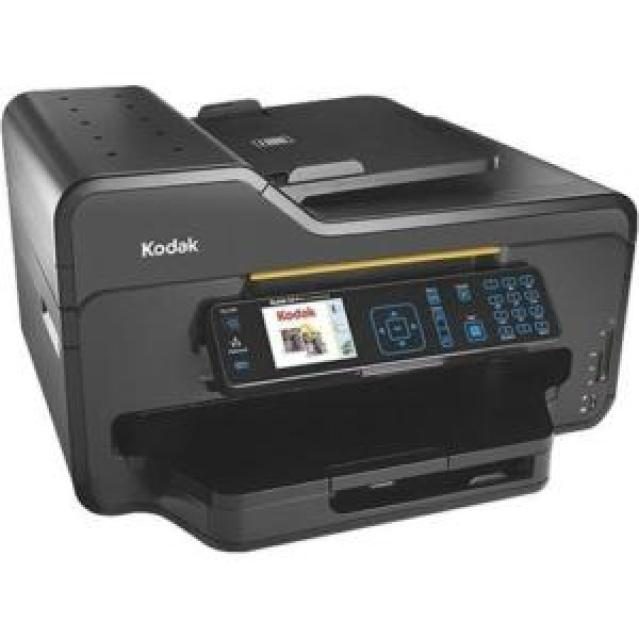Printer: (0, 83, 638, 554)
